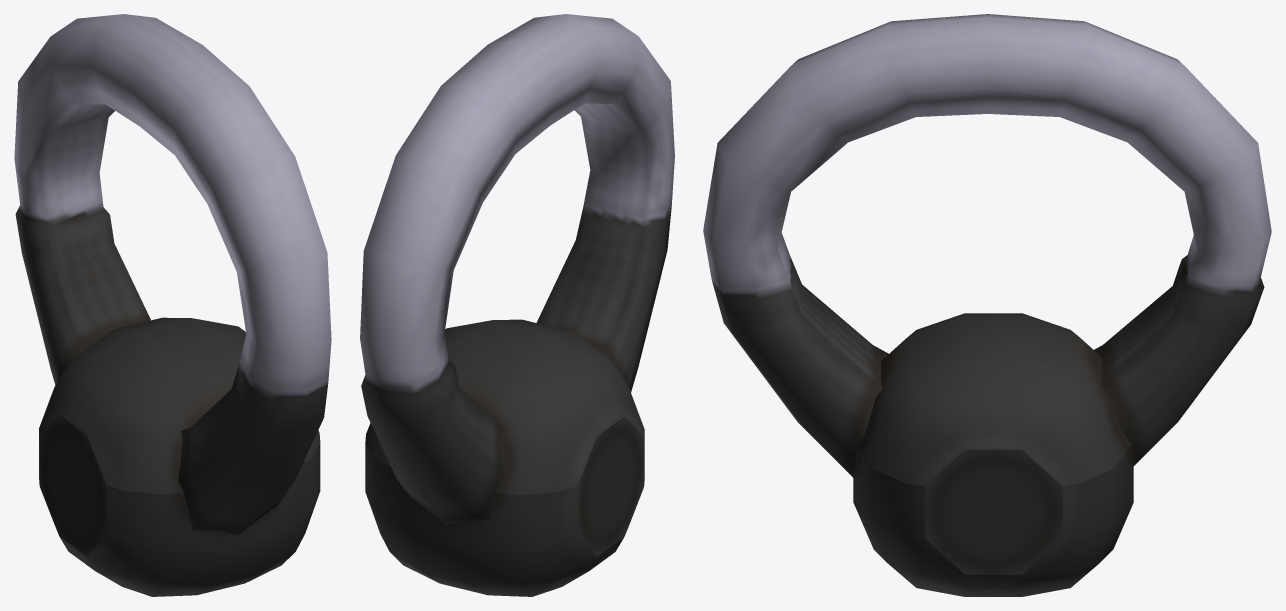
Rendered from MSH_KettleBell_03.FBX.
3 views of the same model, side by side, from view 1: azimuth 30°, elevation 25°; view 2: azimuth 150°, elevation 25°; view 3: azimuth 270°, elevation 25° (orthographic). The views are drawn at different scales.
Visible parts, largest first — view 1: MSH_KettleBell_03; view 2: MSH_KettleBell_03; view 3: MSH_KettleBell_03.
Boxes of the visible parts, x1,y1,x2,y2 form: MSH_KettleBell_03: (14,14,331,596); MSH_KettleBell_03: (360,14,674,596); MSH_KettleBell_03: (703,14,1271,596).
Size of what is drawn, in the model's own units: 9.06 by 20.29 by 21.38.
